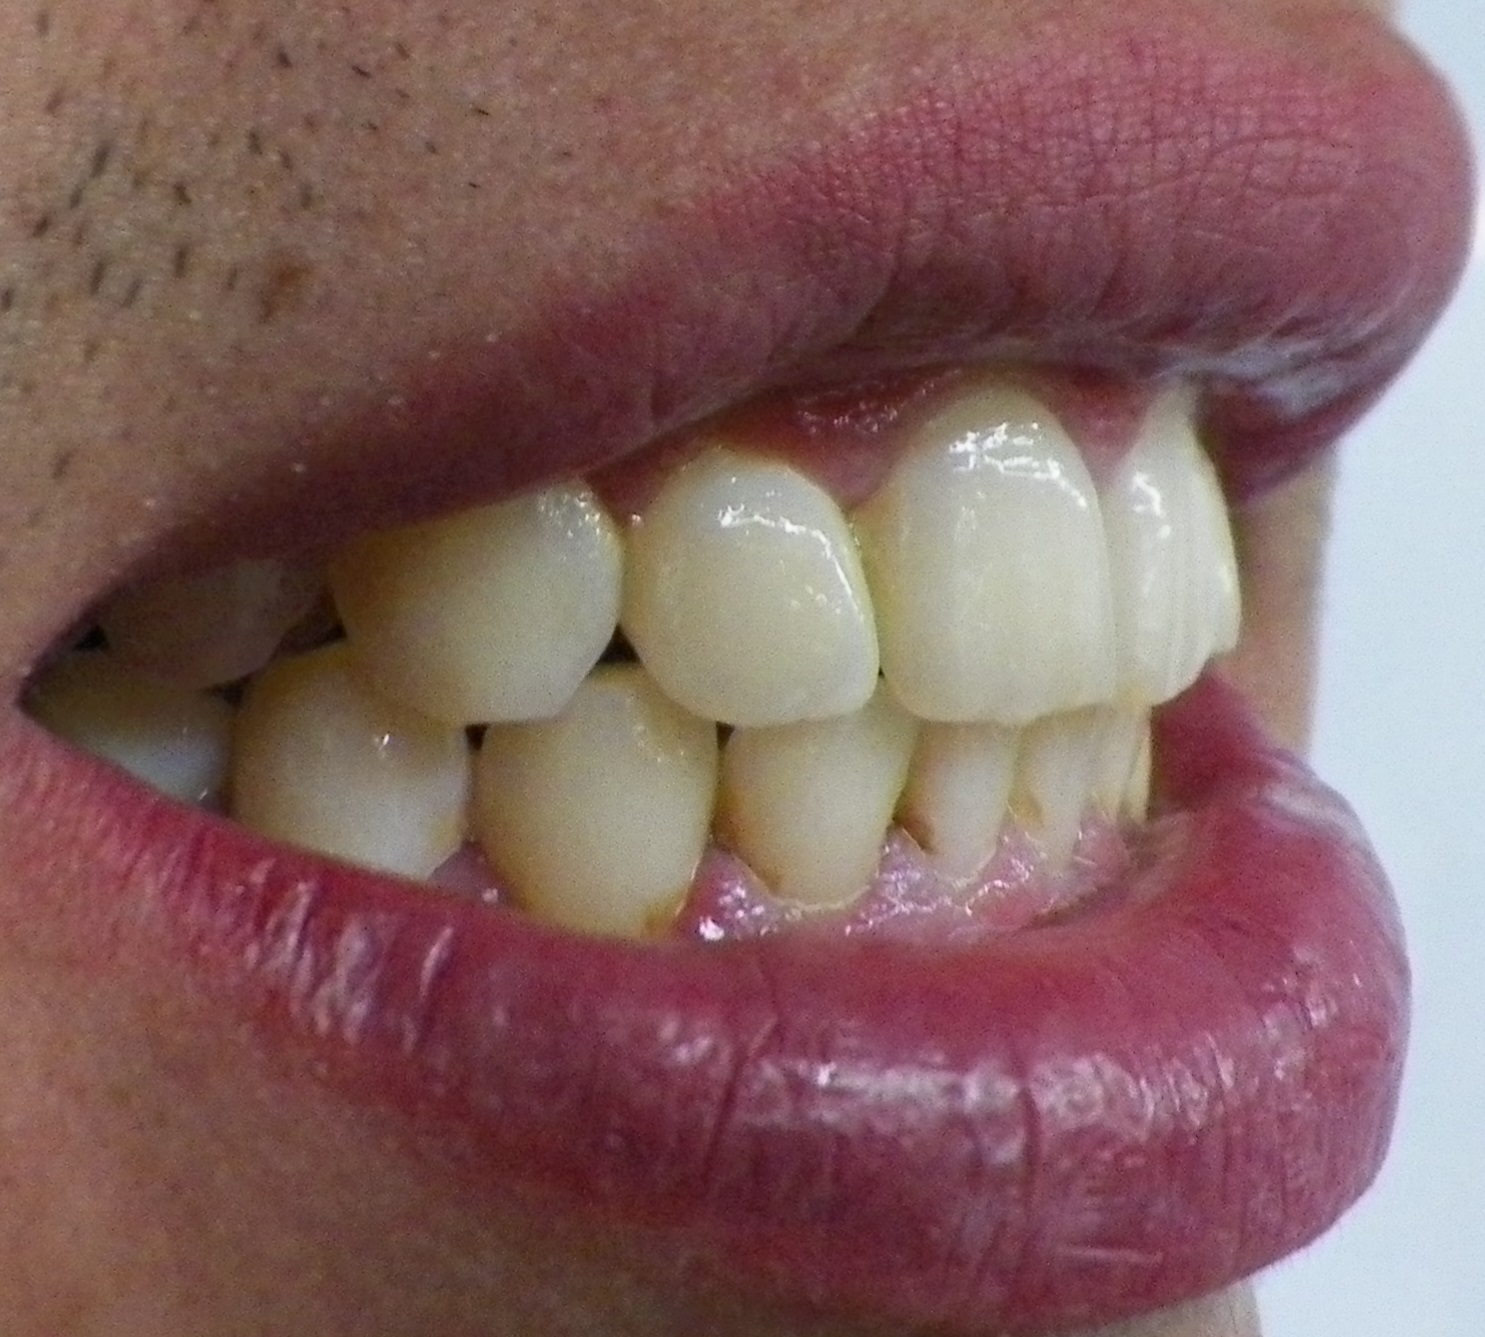boca: (74, 379, 1251, 890)
